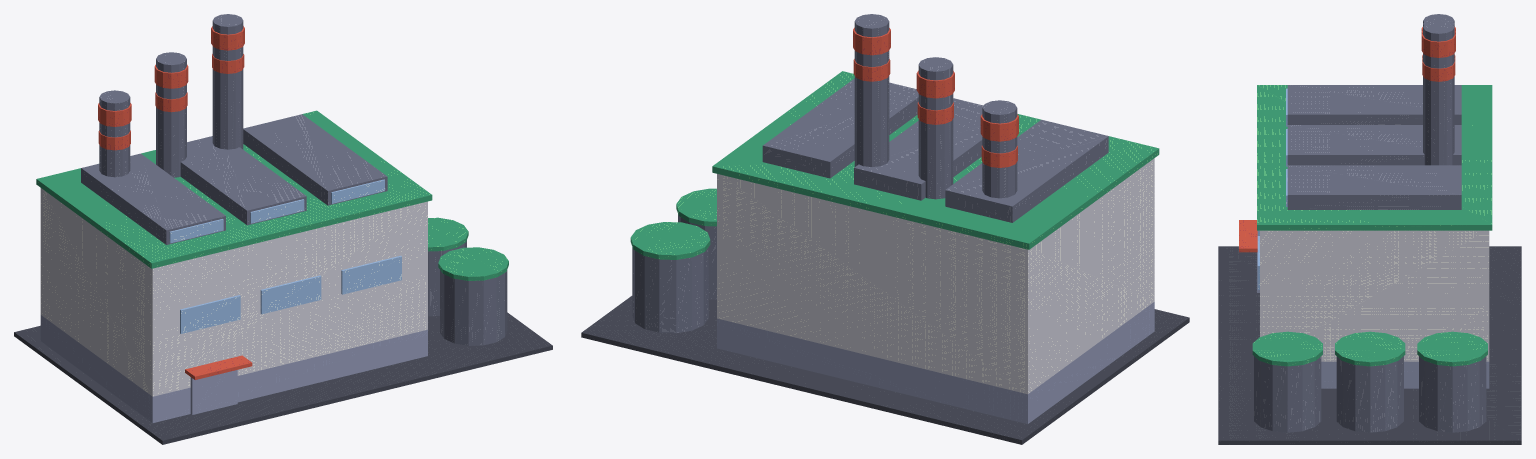
Rendered from ind-3x2-l3.glb.
The picture shows the model from 3 angles, left to right: view 1: azimuth 30°, elevation 25°; view 2: azimuth 150°, elevation 25°; view 3: azimuth 270°, elevation 25°; orthographic projection. The views are drawn at different scales.
Visible parts, largest first — view 1: ind-3x2-l3; view 2: ind-3x2-l3; view 3: ind-3x2-l3.
Boxes of the visible parts, bbox=[...] form: ind-3x2-l3: bbox=[14, 14, 552, 444]; ind-3x2-l3: bbox=[581, 14, 1189, 444]; ind-3x2-l3: bbox=[1218, 14, 1521, 444].
Size of the model in its own units: 5.86 by 4.35 by 3.86.
1 material, 1 textured.
